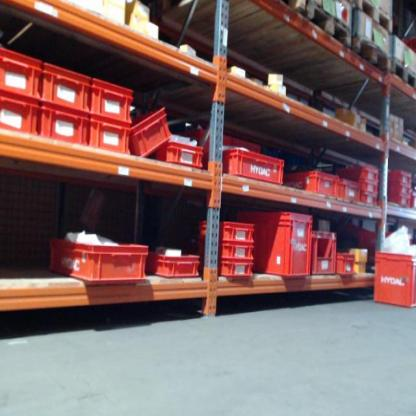pallet: (306, 2, 351, 47), (351, 35, 393, 79), (354, 2, 397, 36), (388, 54, 414, 97), (280, 0, 305, 20)
small_load_carrier: (238, 206, 315, 284), (48, 229, 150, 286), (39, 60, 90, 117), (372, 249, 415, 310), (37, 106, 89, 155), (129, 104, 174, 160), (222, 149, 286, 187), (1, 45, 44, 101), (91, 74, 133, 127), (148, 246, 203, 286), (87, 119, 131, 162), (279, 169, 339, 200), (1, 96, 37, 142), (311, 227, 340, 280), (152, 142, 203, 172), (197, 216, 255, 242), (201, 257, 254, 280), (199, 239, 254, 260), (333, 164, 379, 181), (337, 251, 358, 280), (339, 179, 360, 205), (385, 193, 411, 210), (355, 192, 379, 208), (388, 169, 412, 184), (385, 183, 412, 196), (356, 183, 381, 194)
